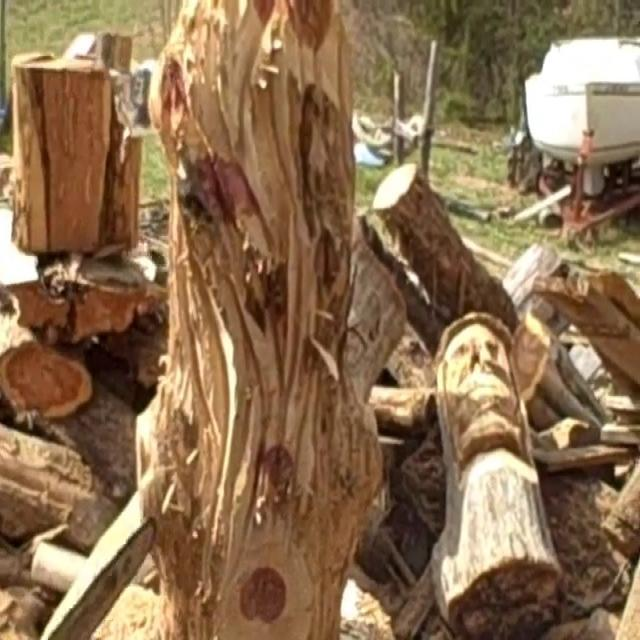Chainsaw: (0, 493, 160, 640)
